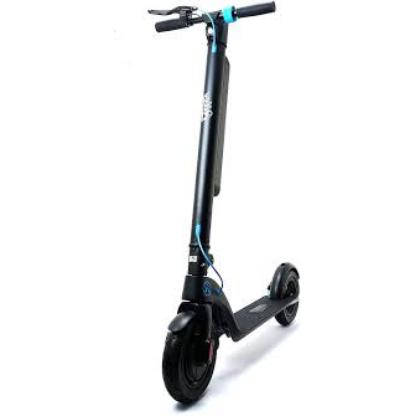bike: (156, 0, 303, 409)
